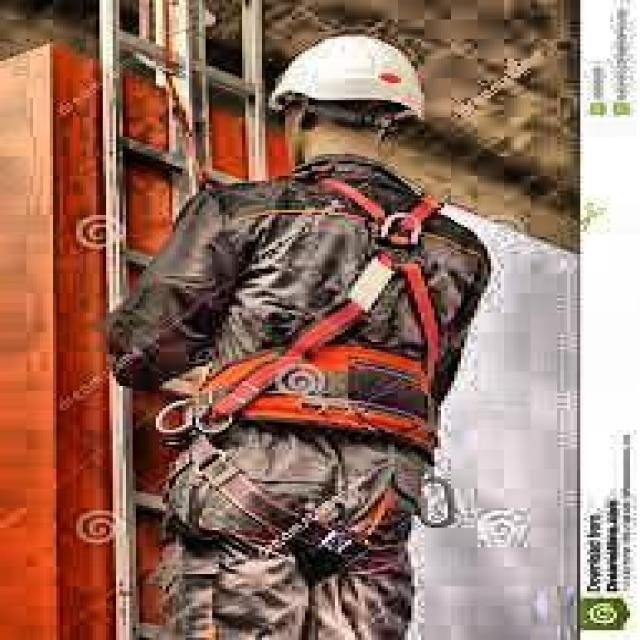Arnes_seguridad: (212, 181, 462, 427)
